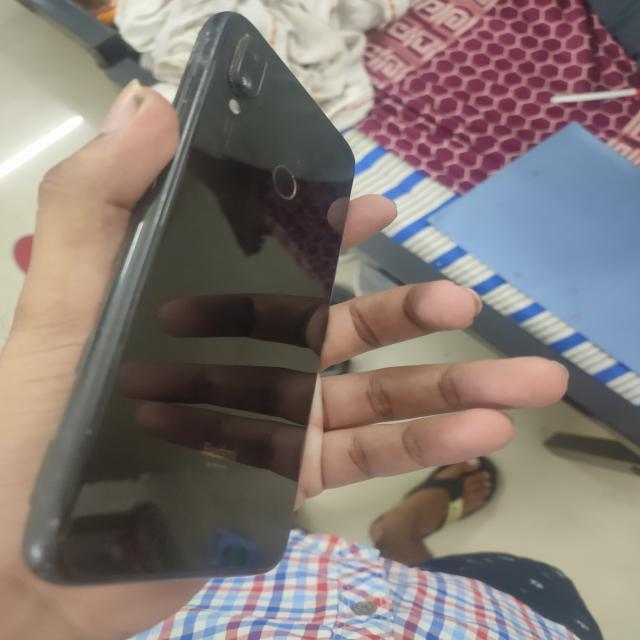Phone: (20, 12, 363, 586)
